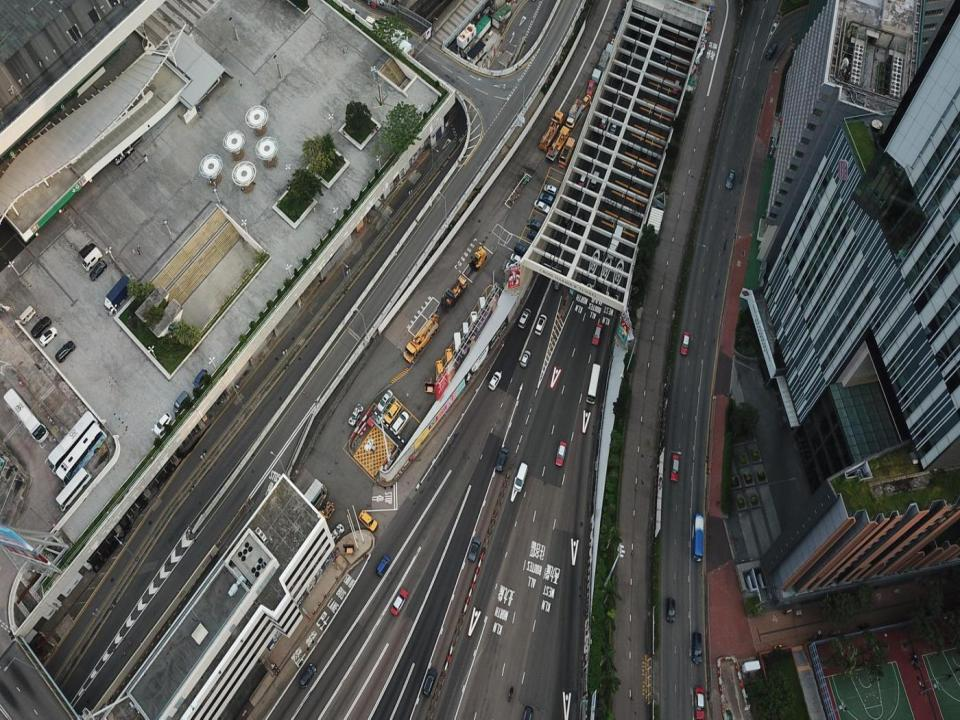bus: (44, 410, 100, 475), (55, 423, 107, 488), (2, 388, 48, 442), (55, 466, 92, 512), (692, 513, 703, 561)
car: (390, 588, 408, 615), (326, 524, 344, 546), (347, 403, 364, 426), (376, 389, 393, 412), (39, 326, 57, 346), (694, 687, 705, 718), (89, 260, 106, 280), (495, 447, 509, 470), (468, 536, 480, 562), (555, 440, 566, 466), (533, 199, 550, 215), (679, 331, 690, 355), (670, 454, 679, 482), (592, 324, 602, 346), (578, 94, 591, 110), (563, 209, 575, 226), (629, 166, 639, 185), (470, 310, 478, 332), (726, 169, 735, 188), (598, 113, 608, 130), (506, 262, 522, 272), (510, 252, 523, 264), (578, 172, 588, 187), (658, 48, 667, 63), (672, 78, 680, 94), (587, 79, 594, 96), (527, 231, 538, 240)
truck: (403, 307, 439, 364), (104, 275, 134, 314), (538, 108, 564, 152), (441, 274, 468, 311), (545, 125, 569, 161), (607, 224, 623, 260), (565, 98, 582, 130), (558, 136, 575, 168), (314, 501, 334, 524)
van: (421, 667, 438, 696), (82, 246, 102, 270), (55, 340, 75, 364), (298, 663, 317, 688), (358, 509, 378, 532), (391, 411, 410, 435), (31, 316, 51, 338), (383, 400, 401, 424), (154, 413, 172, 436), (514, 462, 527, 492), (174, 390, 190, 413), (691, 632, 702, 664), (192, 368, 208, 389), (375, 554, 390, 576), (534, 314, 547, 336), (445, 348, 455, 376), (435, 360, 445, 386), (518, 308, 530, 329), (488, 371, 501, 390), (765, 41, 777, 60), (573, 212, 585, 231), (80, 243, 96, 257), (454, 332, 462, 360), (667, 598, 676, 622), (478, 296, 487, 320), (514, 243, 530, 256), (539, 192, 554, 205), (527, 218, 542, 231), (553, 272, 563, 291), (520, 350, 531, 367), (543, 184, 558, 196), (521, 705, 533, 719), (590, 171, 600, 187), (462, 322, 469, 344), (609, 119, 620, 133)
